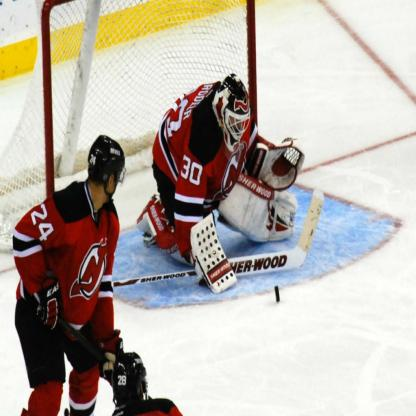Helmet: (212, 69, 254, 147), (82, 136, 122, 208), (113, 352, 146, 407)
